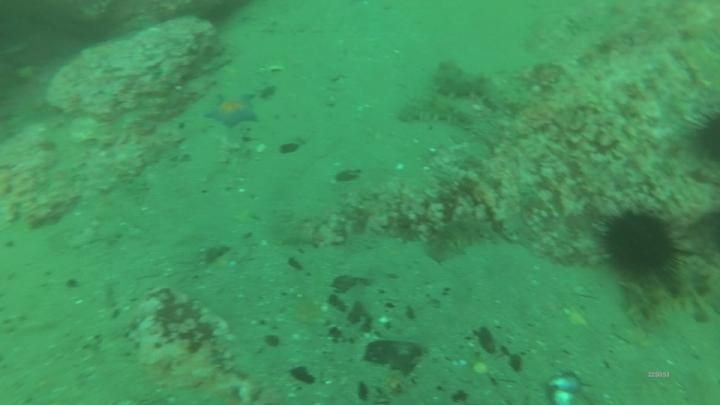echinus: (593, 199, 687, 288), (688, 104, 720, 175)
holothurian: (615, 255, 720, 324), (425, 213, 499, 266), (400, 94, 487, 132), (431, 56, 503, 101), (483, 88, 543, 119)
starfish: (202, 92, 263, 133)
